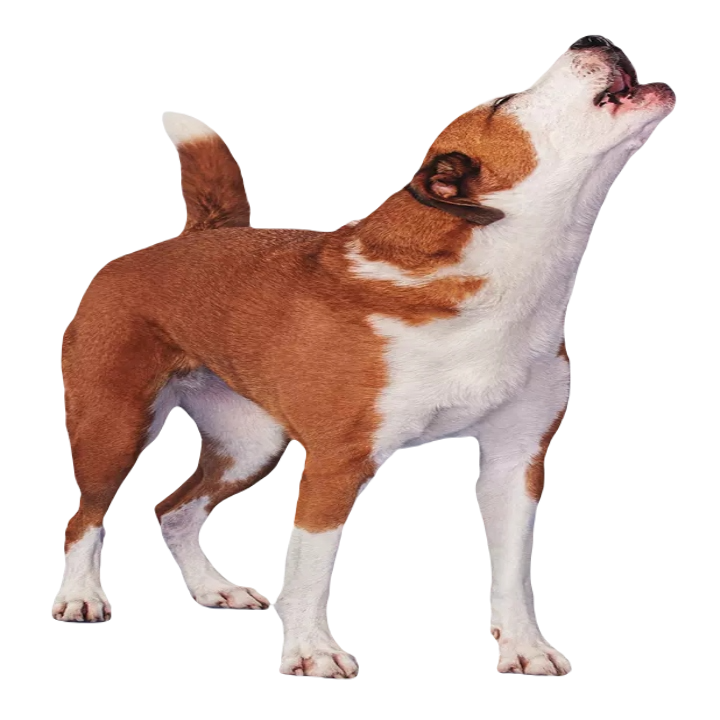Dog: (46, 28, 670, 684)
